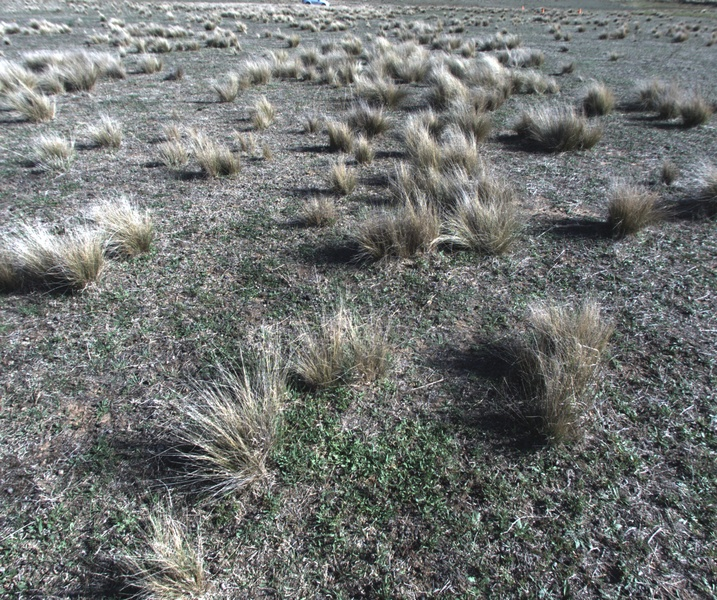st: (509, 285, 614, 436), (189, 353, 277, 507), (274, 310, 398, 392), (113, 512, 200, 600), (354, 208, 440, 263), (102, 196, 151, 260), (52, 222, 102, 284), (434, 121, 482, 183), (5, 222, 57, 278), (525, 112, 599, 150), (456, 207, 509, 259), (603, 185, 654, 236), (396, 160, 448, 208), (13, 90, 62, 126), (433, 70, 470, 117), (149, 135, 189, 176), (78, 116, 120, 151), (249, 97, 285, 135), (352, 105, 390, 141), (578, 80, 614, 115), (406, 116, 434, 161), (301, 194, 339, 227), (30, 133, 70, 164), (361, 78, 406, 105), (61, 55, 95, 89), (187, 127, 219, 160), (323, 120, 351, 155), (29, 68, 60, 98), (330, 164, 361, 194), (1, 62, 23, 99), (268, 51, 294, 79), (655, 91, 680, 120), (637, 78, 667, 102), (211, 76, 238, 102), (136, 50, 161, 78), (480, 34, 521, 51), (684, 98, 704, 132), (99, 53, 125, 79), (248, 57, 271, 86), (503, 50, 542, 67), (329, 60, 356, 82), (354, 135, 374, 163), (661, 163, 681, 190), (232, 126, 251, 153), (342, 35, 361, 58), (521, 76, 543, 95), (302, 117, 320, 136), (443, 33, 462, 51), (542, 78, 562, 95), (282, 33, 302, 50), (298, 53, 321, 67), (318, 41, 335, 54)
